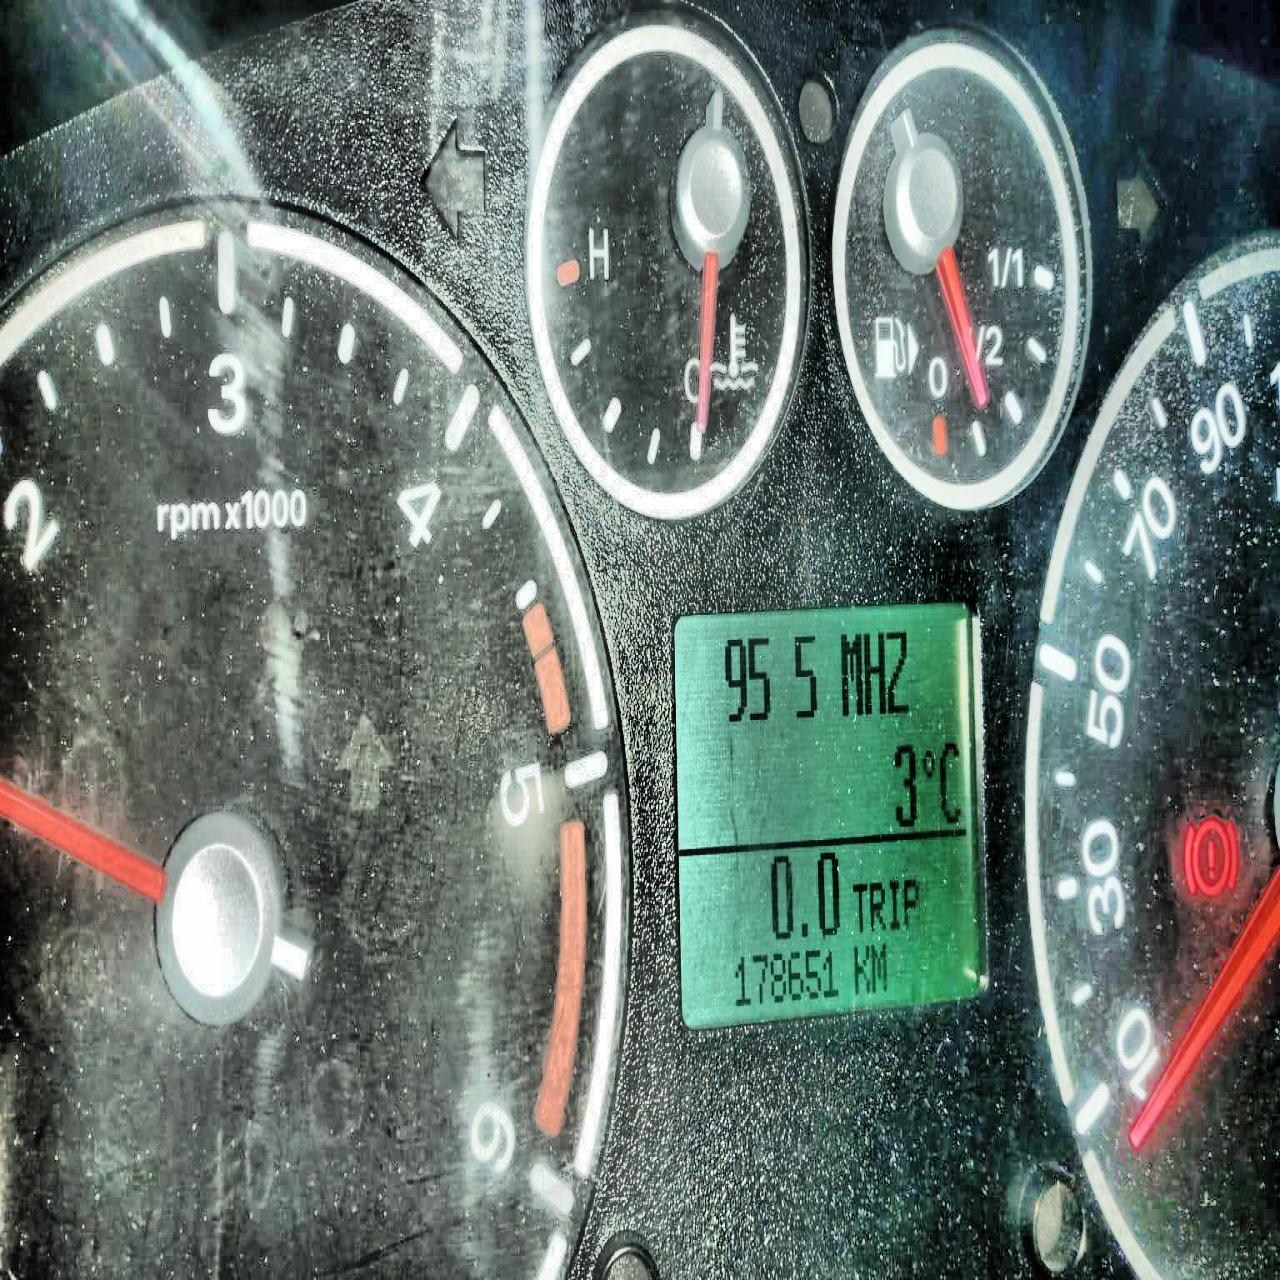-: (799, 920, 809, 939)
0: (816, 849, 840, 937), (769, 852, 794, 939)
1: (733, 954, 751, 1005), (822, 948, 839, 998)
3: (894, 742, 917, 825)
5: (747, 635, 771, 722), (794, 634, 817, 717), (804, 948, 821, 998)
6: (787, 949, 803, 1000)
7: (751, 953, 767, 1003)
8: (769, 952, 785, 1002)
9: (723, 636, 747, 720)
X: (838, 631, 864, 717), (885, 629, 910, 714), (938, 744, 961, 822), (864, 629, 885, 714), (870, 881, 886, 932), (871, 940, 886, 993), (851, 883, 866, 933), (853, 945, 869, 994), (904, 878, 918, 928), (890, 878, 899, 927)
odometer: (670, 593, 990, 1034)
